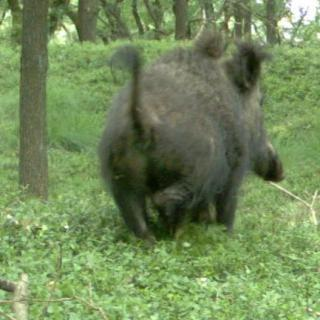Pig: (96, 25, 320, 238)
